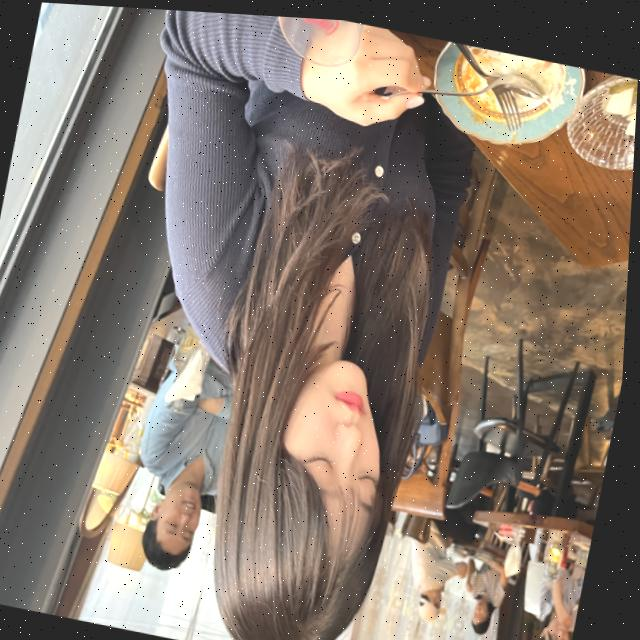eating-person: (45, 3, 529, 640)
